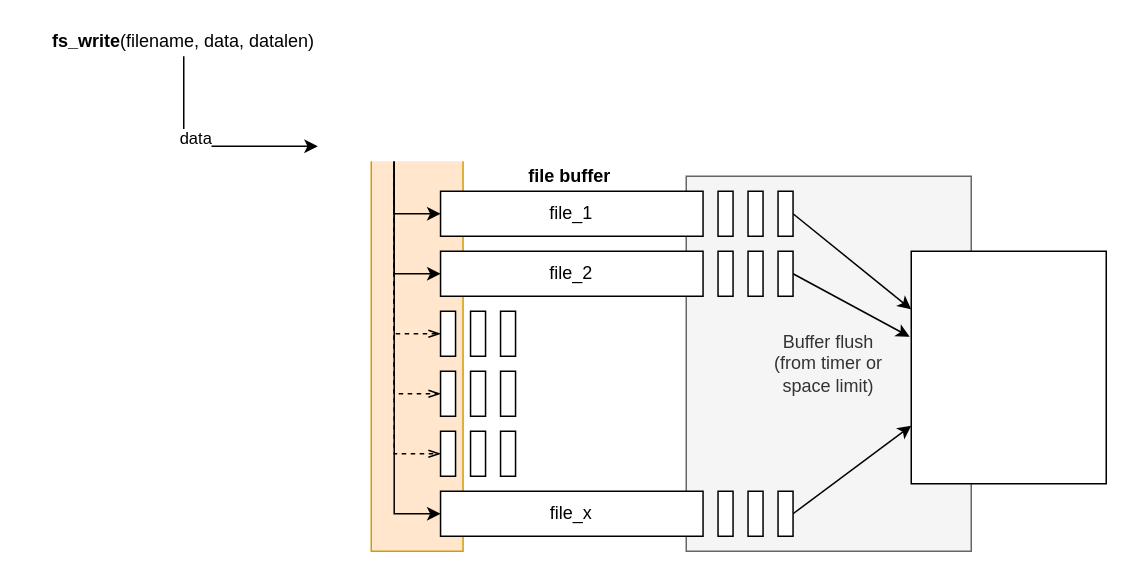
Some shapes in this 1133 by 578 pixel diagram are drawn without their labels. Each missing label, with the centre of its shape:
"Host disk" goes at pixel 1008 367.
"Main buffer" goes at pixel 401 145.
